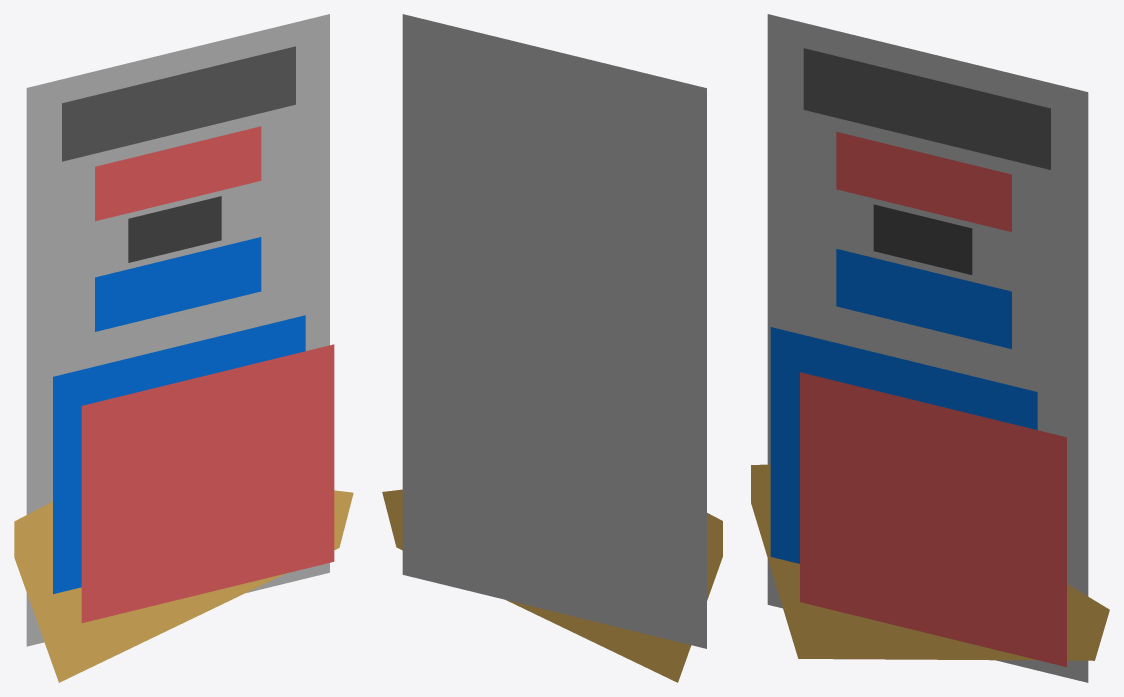
Rendered from WinLoseMultiplayerScene.dae.
3 views of the same model, side by side, from view 1: azimuth 30°, elevation 25°; view 2: azimuth 150°, elevation 25°; view 3: azimuth 330°, elevation 25° (orthographic). The views are drawn at different scales.
Visible parts, largest first — view 1: Board03, winloseredwins, winlosebluewins, winlosetitle, winloseboard, winloseblue, winlosered, winlosebeats; view 2: Board03, winloseboard; view 3: Board03, winloseredwins, winlosebluewins, winlosetitle, winloseboard, winloseblue, winlosered, winlosebeats.
Part boxes in pixels (bbox=[...]): Board03: bbox=[26, 14, 329, 646]; winloseredwins: bbox=[81, 344, 334, 622]; winlosebluewins: bbox=[53, 315, 305, 594]; winlosetitle: bbox=[62, 46, 295, 161]; winloseboard: bbox=[14, 490, 353, 682]; winloseblue: bbox=[95, 126, 261, 221]; winlosered: bbox=[95, 237, 261, 331]; winlosebeats: bbox=[128, 196, 221, 262]; Board03: bbox=[402, 14, 706, 648]; winloseboard: bbox=[382, 489, 722, 682]; Board03: bbox=[767, 14, 1088, 682]; winloseredwins: bbox=[800, 372, 1066, 667]; winlosebluewins: bbox=[770, 327, 1037, 563]; winlosetitle: bbox=[803, 48, 1050, 169]; winloseboard: bbox=[751, 464, 1109, 660]; winloseblue: bbox=[836, 131, 1011, 231]; winlosered: bbox=[836, 249, 1011, 348]; winlosebeats: bbox=[873, 204, 972, 274].
Size of the model in its own units: 40.3 by 2.52 by 68.2.
